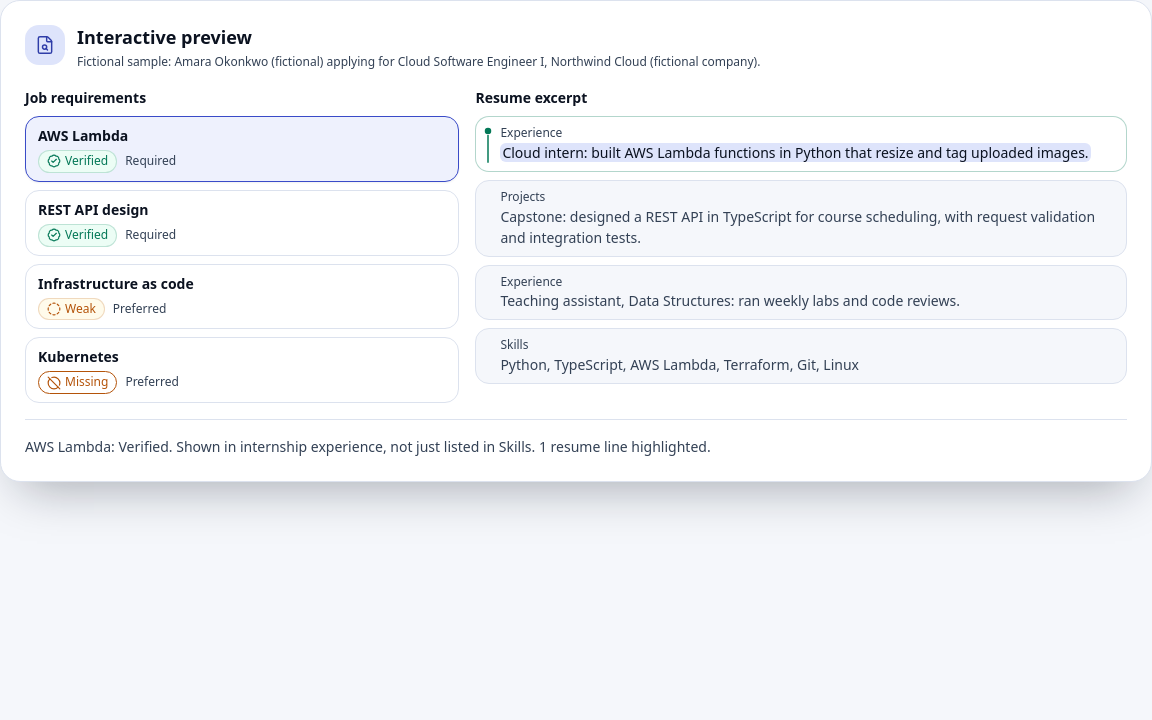
EvidenceThreadPreview › announces the selection in a polite live region
Click the radio button labelled "Kubernetes Missing Preferred": (78, 357) [25,337,459,403]
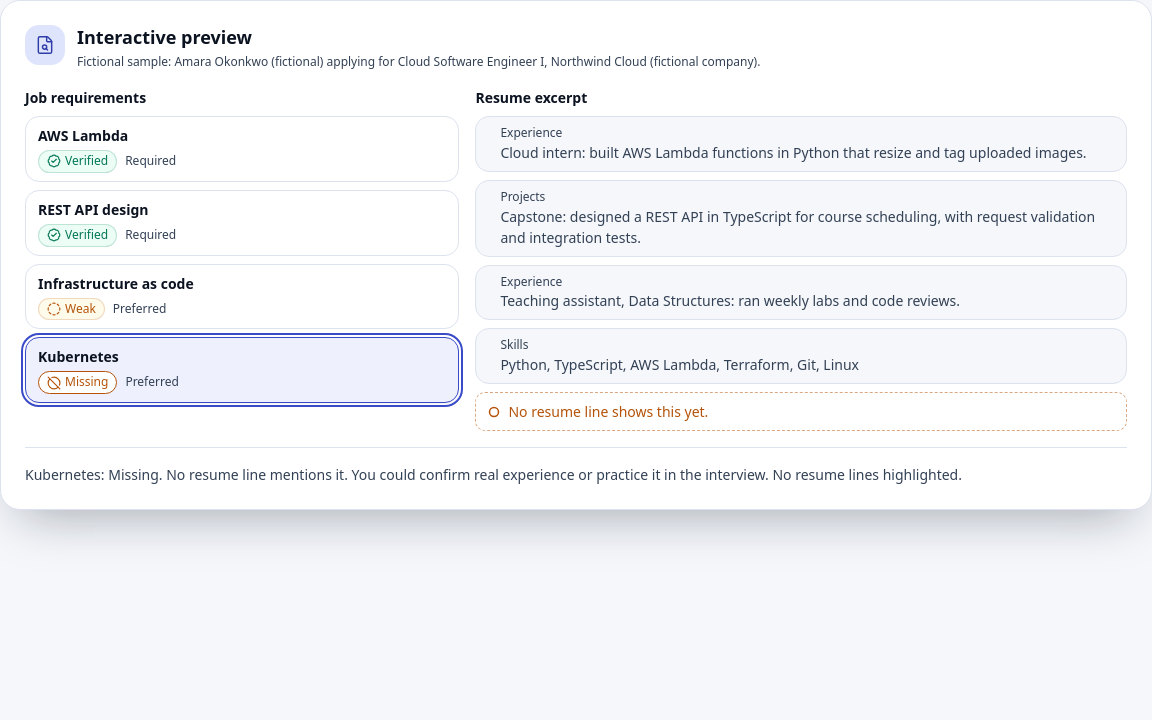
Now the text "Kubernetes: Missing." shows "No resume lines highlighted.", box [25,465,962,484]
